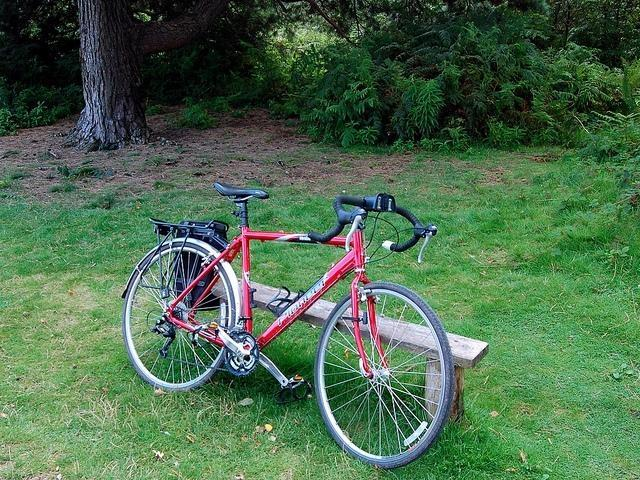bicycle: (123, 182, 450, 469)
